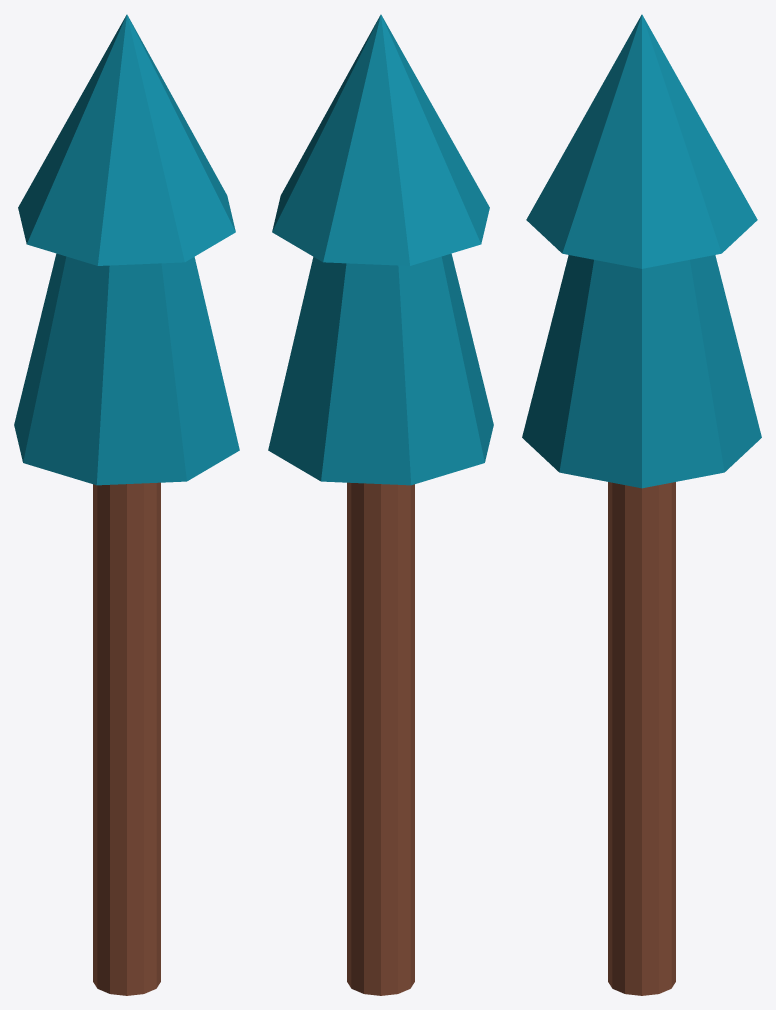
The model's file is Tree_21_summer_blue.fbx.
3 renders of one model, left to right at view 1: azimuth 30°, elevation 25°; view 2: azimuth 150°, elevation 25°; view 3: azimuth 270°, elevation 25°, orthographic.
Visible parts, largest first — view 1: Tree_21_summer_blue; view 2: Tree_21_summer_blue; view 3: Tree_21_summer_blue.
Part boxes in pixels (bbox=[...]): Tree_21_summer_blue: bbox=[14, 14, 239, 995]; Tree_21_summer_blue: bbox=[268, 14, 493, 995]; Tree_21_summer_blue: bbox=[522, 14, 761, 995].
Bounding box in the file's own units: 77.92 × 347 × 77.92.
